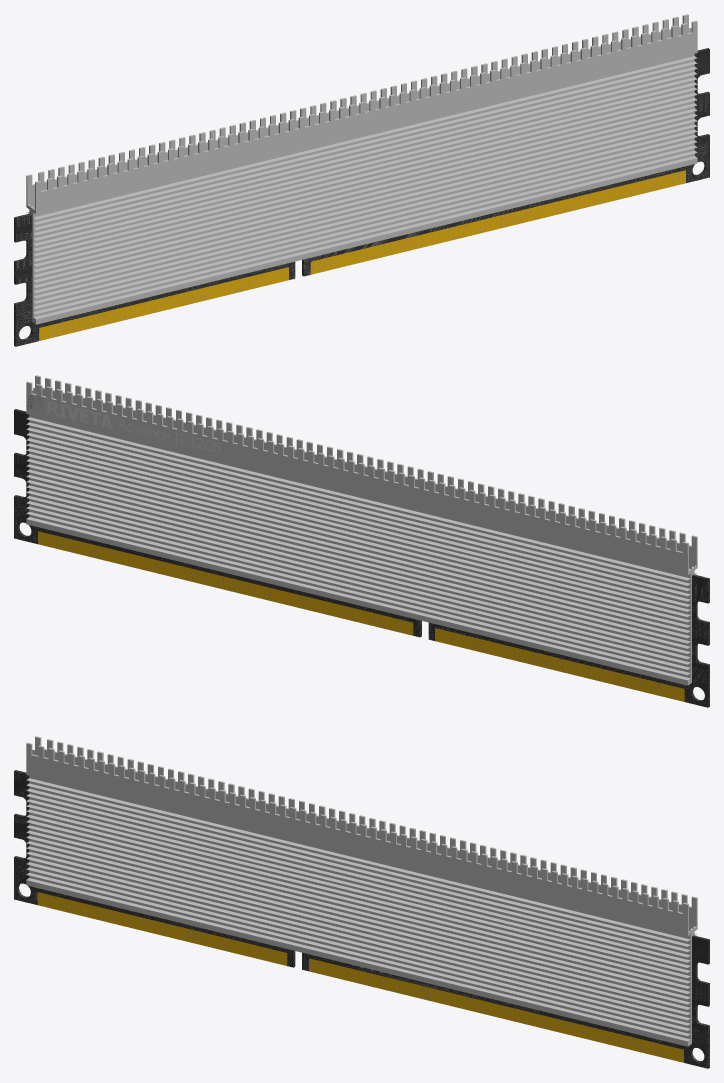
3 views of the same model, one above another, from view 1: azimuth 30°, elevation 25°; view 2: azimuth 150°, elevation 25°; view 3: azimuth 330°, elevation 25° (orthographic).
Visible parts, largest first — view 1: Group_7 (×20), group_21, ram (×3), Group_15, Group_12, Group_10, Group_13 (×2), Group_14, group_18; view 2: Group_7 (×19), group_17, ram (×3), Group_14, Group_12, Group_10, Group_13 (×2), Group_15, group_18; view 3: Group_7 (×19), group_21, ram (×3), Group_15, Group_12, Group_10, Group_13 (×2), Group_14, group_18.
Boxes of the visible parts, x1,y1,x2,y2 form: Group_7 (×20): (33,56,697,318); group_21: (32,54,694,322); ram (×3): (14,48,709,346); Group_15: (35,32,697,210); Group_12: (33,156,697,324); Group_10: (33,50,697,214); Group_13 (×2): (30,28,691,208); Group_14: (26,25,688,204); group_18: (26,50,697,214); Group_7 (×19): (26,417,690,674); group_17: (29,414,691,683); ram (×3): (14,409,709,707); Group_14: (26,393,688,571); Group_12: (26,517,690,685); Group_10: (26,411,690,575); Group_13 (×2): (32,388,694,569); Group_15: (35,386,697,565); group_18: (26,411,697,575); Group_7 (×19): (26,778,690,1035); group_21: (29,776,691,1044); ram (×3): (14,770,709,1068); Group_15: (26,754,688,932); Group_12: (26,878,690,1046); Group_10: (26,772,690,936); Group_13 (×2): (32,750,693,930); Group_14: (35,747,697,926); group_18: (26,772,697,936).
Bounding box in the file's own units: 5.43 × 0.134 × 1.22.
